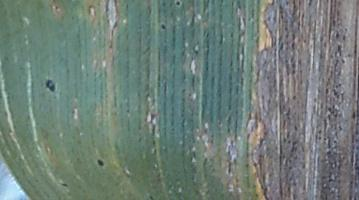tarspot: (45, 79, 56, 93), (96, 158, 105, 168), (333, 29, 341, 40), (59, 181, 69, 188), (351, 111, 357, 122), (159, 23, 166, 31), (336, 44, 342, 53), (147, 194, 155, 200), (174, 1, 181, 7)
